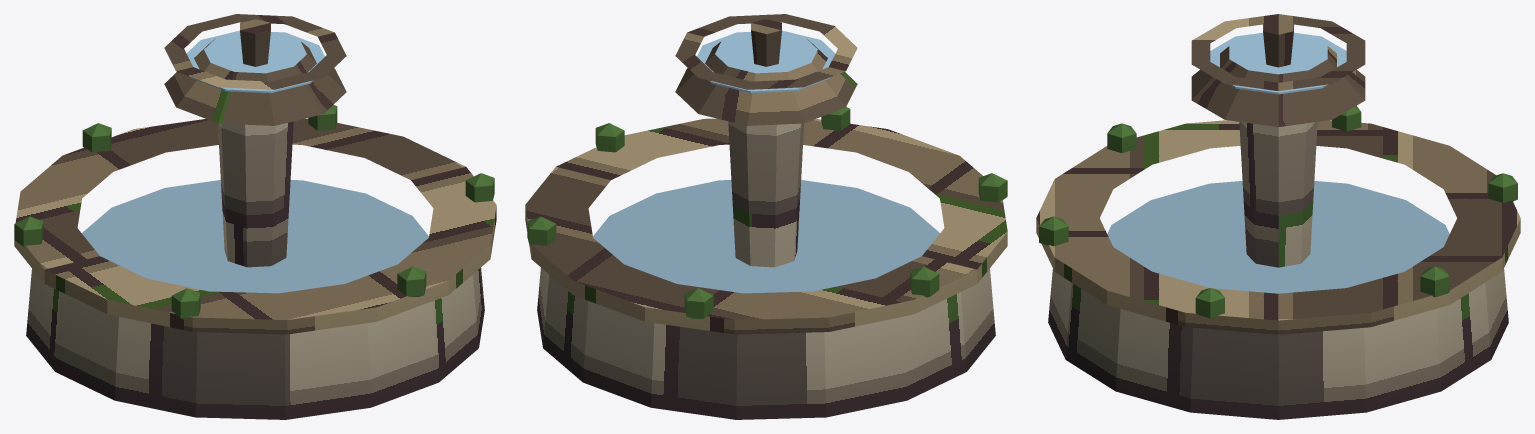
The model's file is fountain.glb.
The picture shows the model from 3 angles, left to right: view 1: azimuth 30°, elevation 25°; view 2: azimuth 150°, elevation 25°; view 3: azimuth 270°, elevation 25°; orthographic projection.
Parts seen in each view (by area): view 1: fountain; view 2: fountain; view 3: fountain.
Boxes of the visible parts, x1,y1,x2,y2 form: fountain: (14,14,496,419); fountain: (525,14,1007,419); fountain: (1036,14,1520,419).
Size of the model in its own units: 2.44 by 1.64 by 2.44.
Materials: 2 (1 with a texture image).
